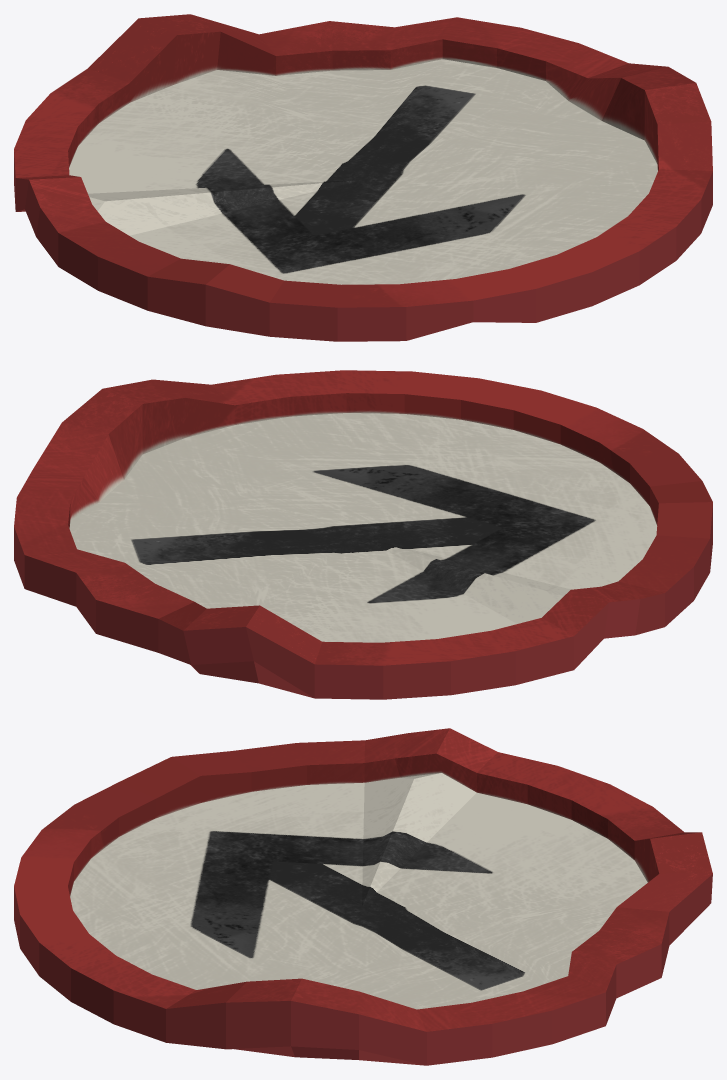
3 views of the same model, one above another, from view 1: azimuth 30°, elevation 25°; view 2: azimuth 150°, elevation 25°; view 3: azimuth 270°, elevation 25° (orthographic).
Visible parts, largest first — view 1: Cylinder.067; view 2: Cylinder.067; view 3: Cylinder.067.
Boxes of the visible parts, <box> form: Cylinder.067: <box>14,14,712,341</box>; Cylinder.067: <box>14,370,712,699</box>; Cylinder.067: <box>14,728,712,1065</box>.
Size of the model in its own units: 200 by 20.41 by 201.
3 materials, 1 textured.
